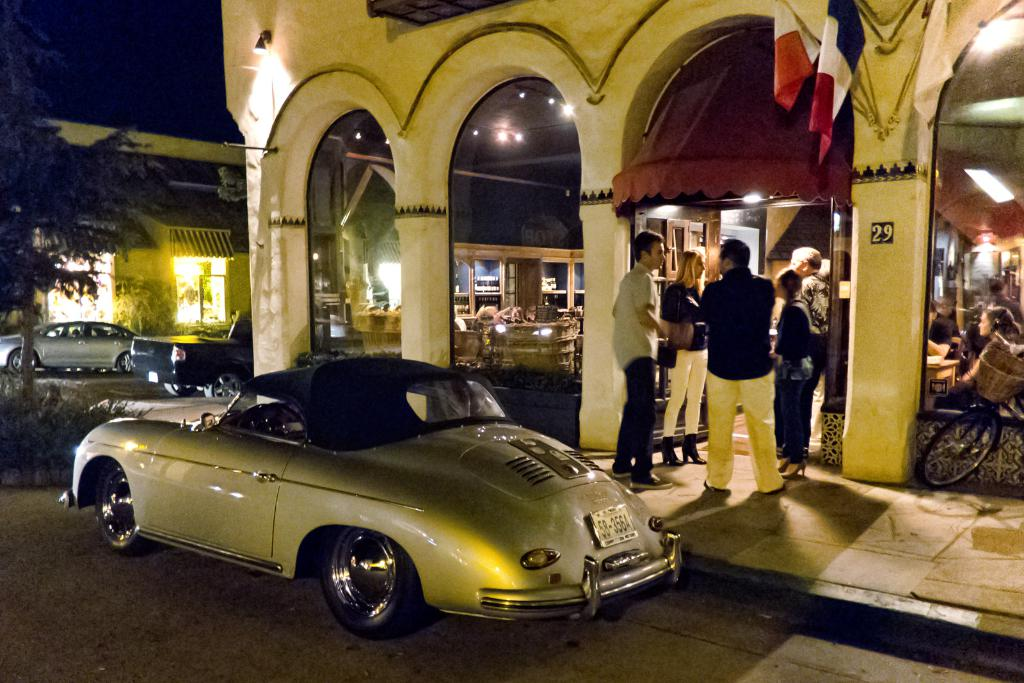Car: (56, 348, 690, 638), (0, 315, 134, 373)
